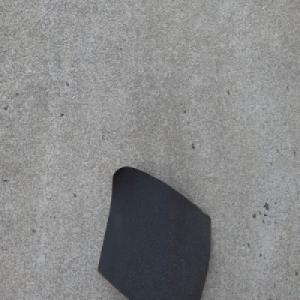PaintChip: (97, 164, 212, 299)
